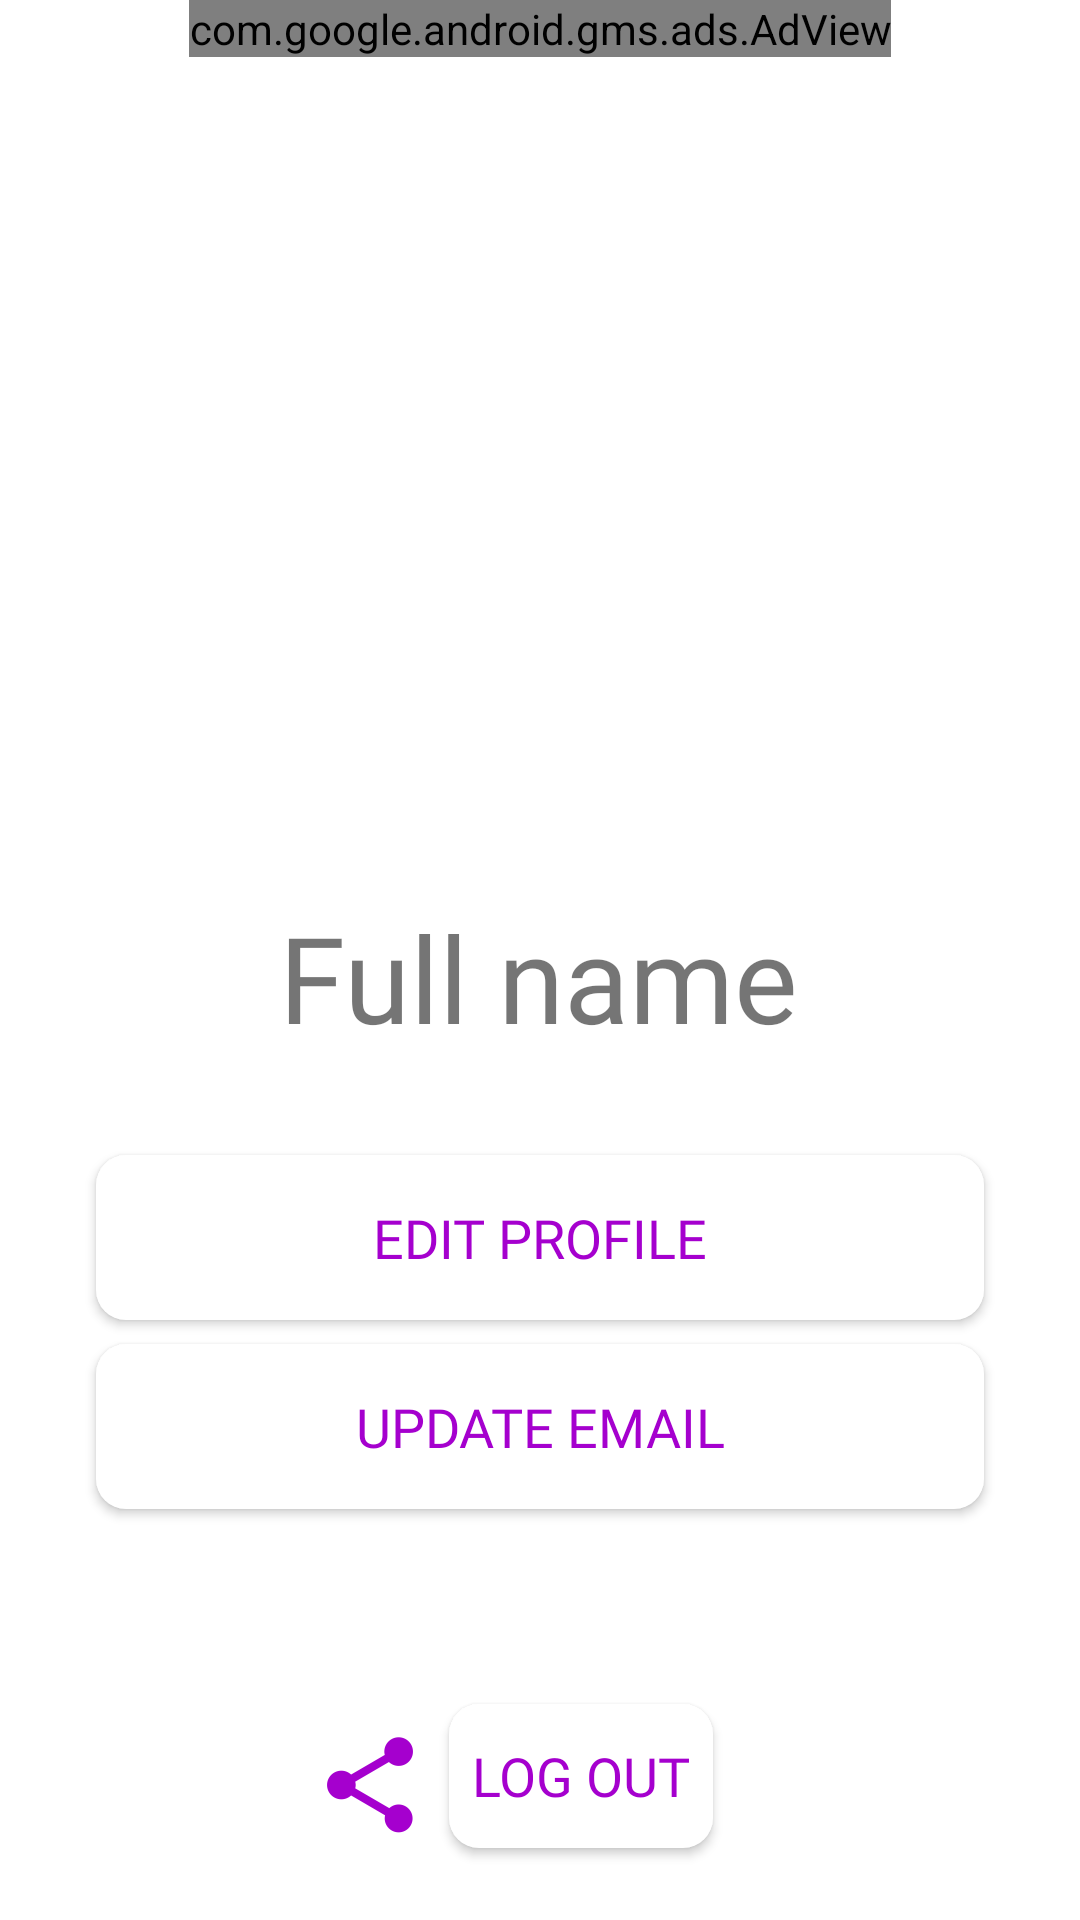

Named icons in this screenshot (1080px x 1920px) and their centers, [x,y]:
share: [370,1785]
